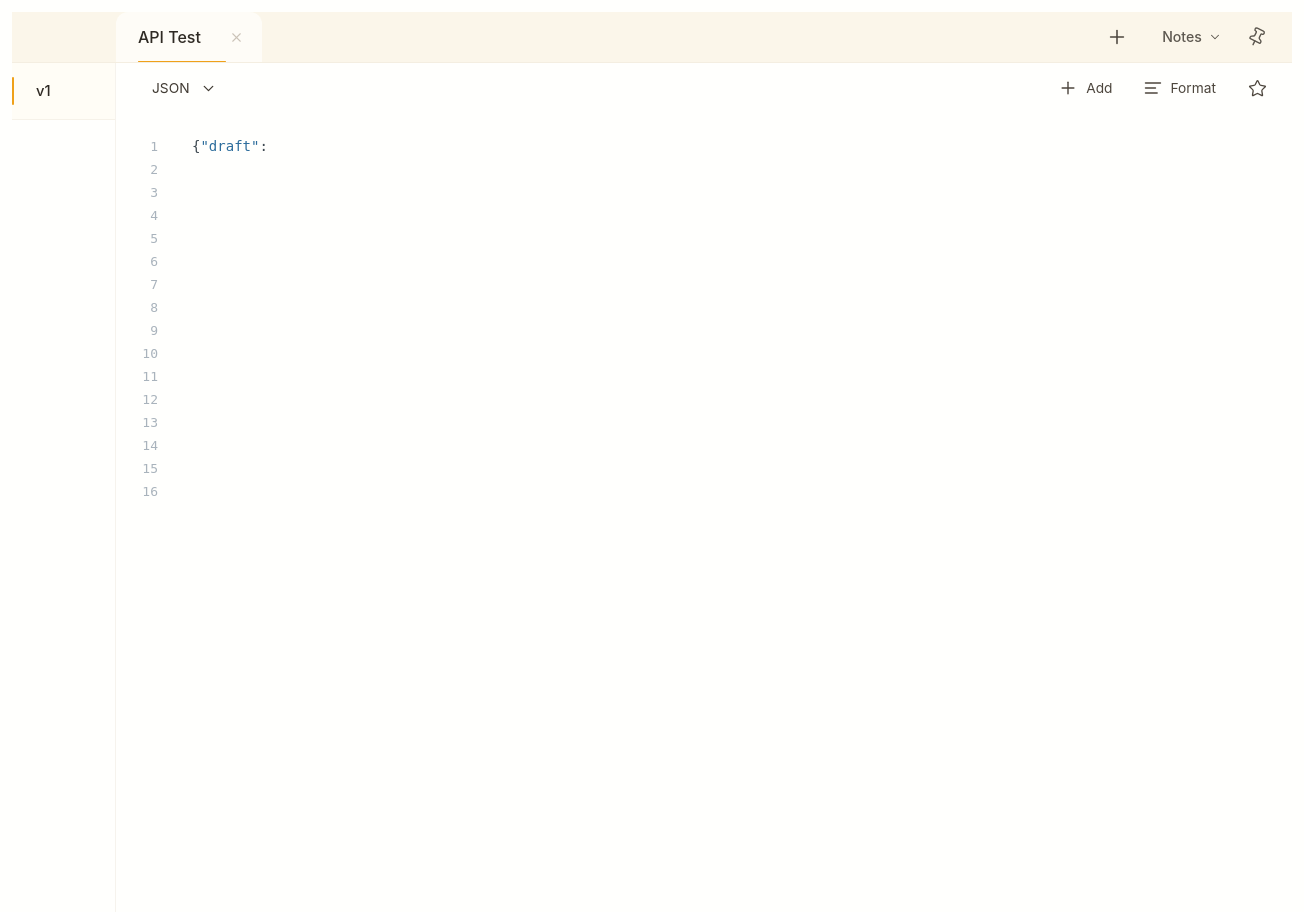
it: App formatting › keeps invalid JSON unchanged and shows an error
Click the button "Format" at (1179, 88), box [1134,69,1224,107]
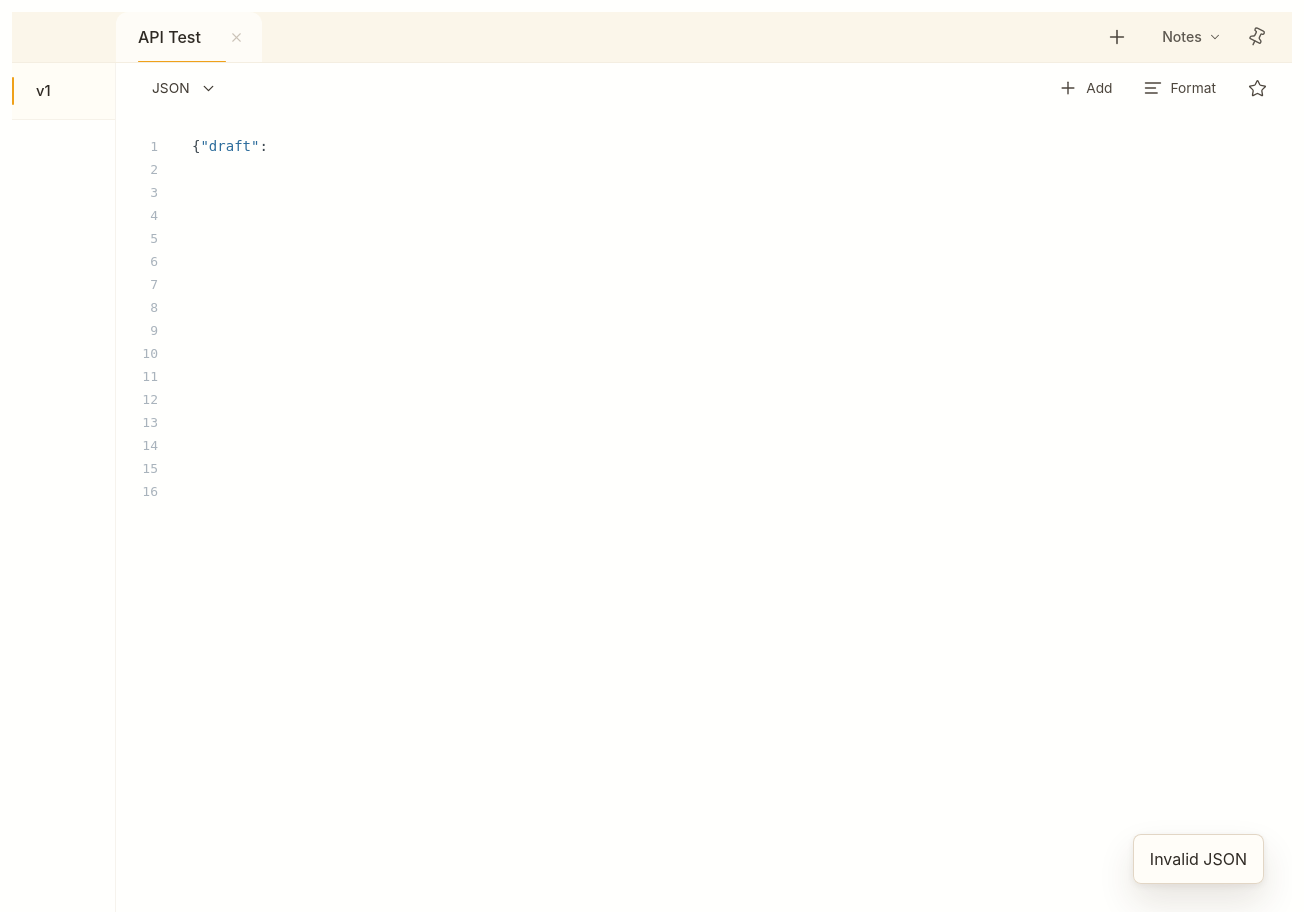
expect the text box named "Editor" holds "{\"draft\":": met, box [168,113,1292,525]
expect the message reads "Invalid JSON": met, box [1150,849,1247,869]
